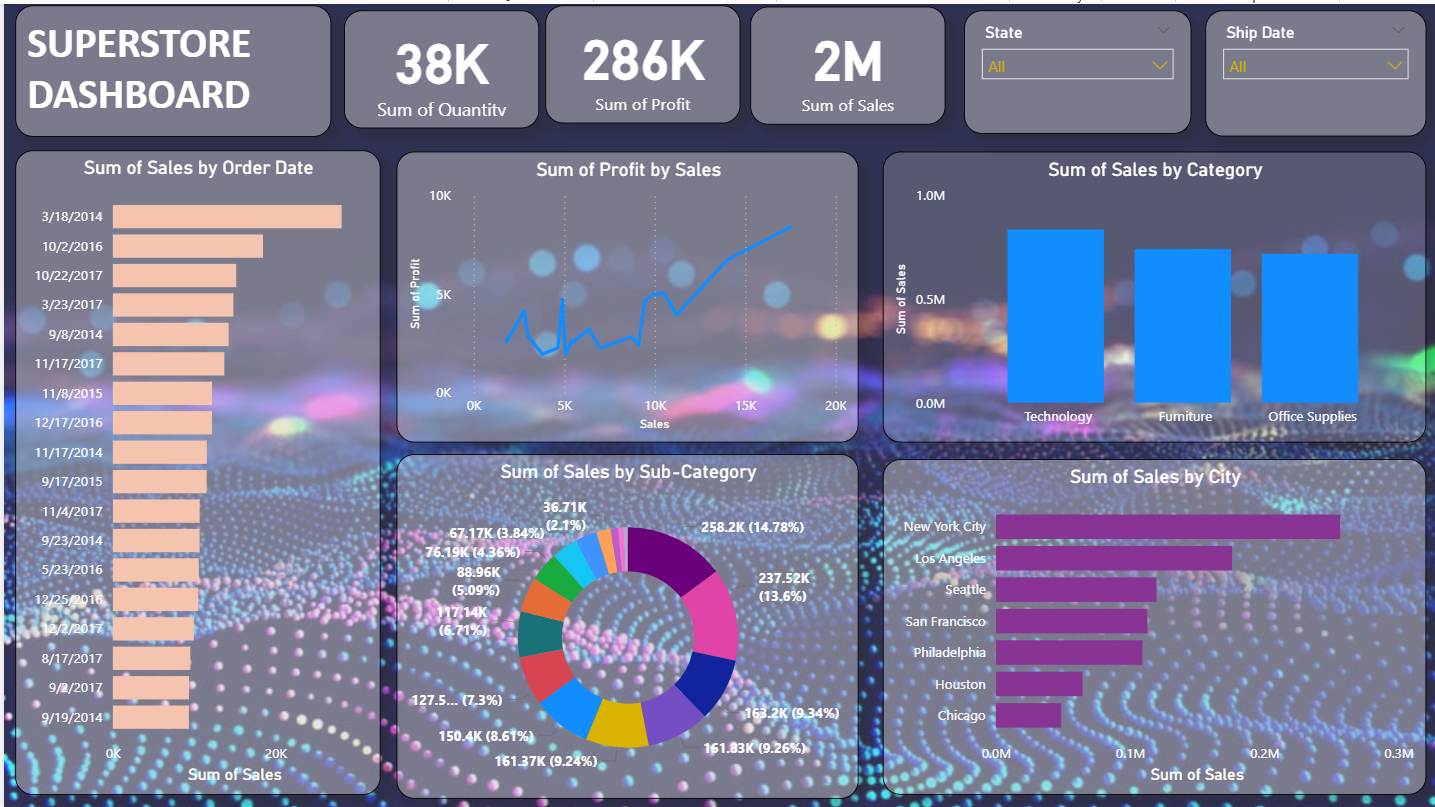

What the dashboard file says about the page in this screenshot:
{"tool":"powerbi","page":{"name":"Page 1","canvas":[1280,720],"ordinal":0},"visuals":[{"type":"textbox","box":[10,1.1,282.5,117.2],"z":0},{"type":"columnChart","fields":{"Category":["Sample - Superstore.Category"],"Y":["Sum(Sample - Superstore.Sales)"]},"box":[785,131.8,485.7,260.2],"z":1},{"type":"barChart","fields":{"Category":["Sample - Superstore.City"],"Y":["Sum(Sample - Superstore.Sales)"]},"box":[785,406.5,485.7,300.4],"z":2},{"type":"donutChart","fields":{"Category":["Sample - Superstore.Sub-Category"],"Y":["Sum(Sample - Superstore.Sales)"]},"box":[350.6,402,413.2,308.2],"z":3},{"type":"lineChart","fields":{"Category":["Sample - Superstore.Sales"],"Y":["Sum(Sample - Superstore.Profit)"]},"box":[350.6,131.8,413.2,260.2],"z":4},{"type":"card","fields":{"Values":["Sum(Sample - Superstore.Quantity)"]},"box":[303.3,5.5,174.3,105.7],"z":5},{"type":"card","fields":{"Values":["Sum(Sample - Superstore.Profit)"]},"box":[483,1.4,174.3,105.7],"z":6},{"type":"barChart","fields":{"Category":["Sample - Superstore.Order Date"],"Y":["Sum(Sample - Superstore.Sales)"]},"box":[10,130.6,326.1,576.2],"z":7},{"type":"card","fields":{"Values":["Sum(Sample - Superstore.Sales)"]},"box":[666.9,2.7,174.3,105.7],"z":8},{"type":"slicer","fields":{"Values":["Sample - Superstore.State"]},"box":[857.6,5.6,203.2,110.5],"z":9},{"type":"slicer","fields":{"Values":["Sample - Superstore.Ship Date"]},"box":[1073.1,5.6,197.6,112.8],"z":10}]}

Visuals, with their boxes in screenshot pixels (x1, y1, x2, y2), scaled from the page's 1280x720 canvas onto the 1435x807 screenshot:
textbox: box(11, 1, 328, 133)
columnChart - Sample - Superstore.Category x Sum(Sample - Superstore.Sales): box(880, 148, 1425, 439)
barChart - Sample - Superstore.City x Sum(Sample - Superstore.Sales): box(880, 456, 1425, 792)
donutChart - Sample - Superstore.Sub-Category x Sum(Sample - Superstore.Sales): box(393, 451, 856, 796)
lineChart - Sample - Superstore.Sales x Sum(Sample - Superstore.Profit): box(393, 148, 856, 439)
card - Sum(Sample - Superstore.Quantity): box(340, 6, 535, 125)
card - Sum(Sample - Superstore.Profit): box(541, 2, 737, 120)
barChart - Sample - Superstore.Order Date x Sum(Sample - Superstore.Sales): box(11, 146, 377, 792)
card - Sum(Sample - Superstore.Sales): box(748, 3, 943, 121)
slicer - Sample - Superstore.State: box(961, 6, 1189, 130)
slicer - Sample - Superstore.Ship Date: box(1203, 6, 1425, 133)
